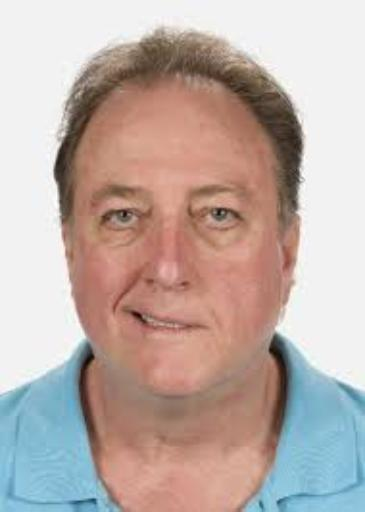left_eye: (196, 205, 247, 230)
left_lip_corner: (195, 320, 212, 338)
right_eye: (100, 206, 146, 232)
right_lip_corner: (122, 304, 140, 323)
